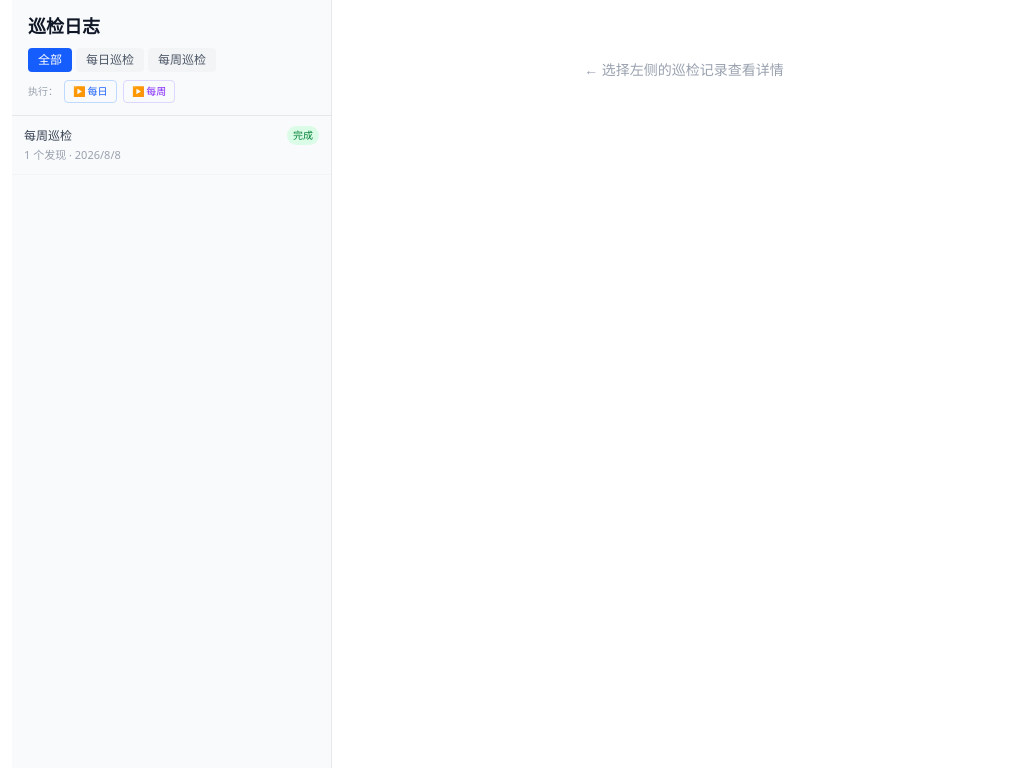
Test: PatrolPage › shows a notice when the pair was already queued
Click the text "1 个发现 · 2026/8/8" at (72, 154), box [24,147,121,162]
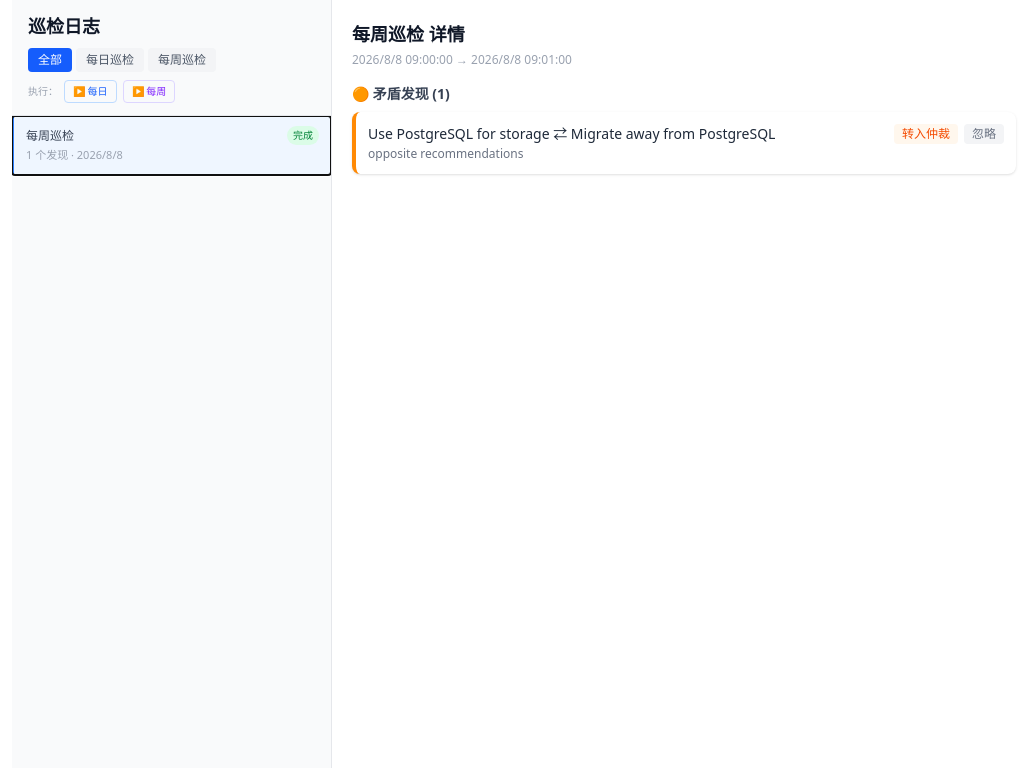
Now the button "转入仲裁" is shown
Click the button "转入仲裁" at (926, 134), box [894,124,958,144]
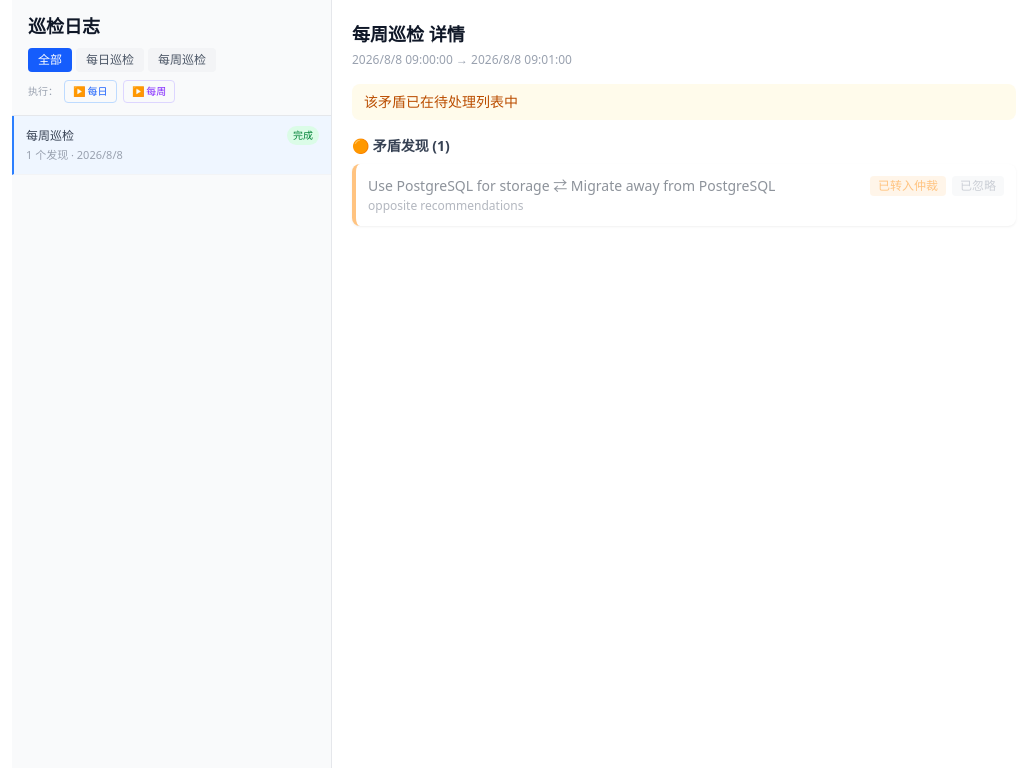
Now the text "该矛盾已在待处理列表中" is shown, box [352,84,1016,120]
Now the button "已转入仲裁" is shown, box [870,176,946,196]
